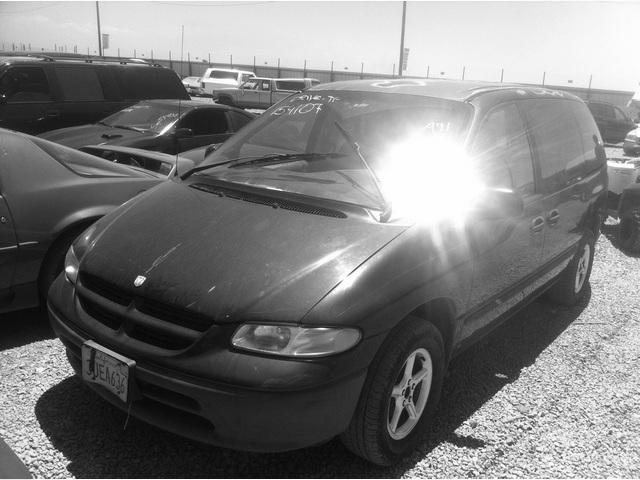car: (43, 75, 611, 471)
